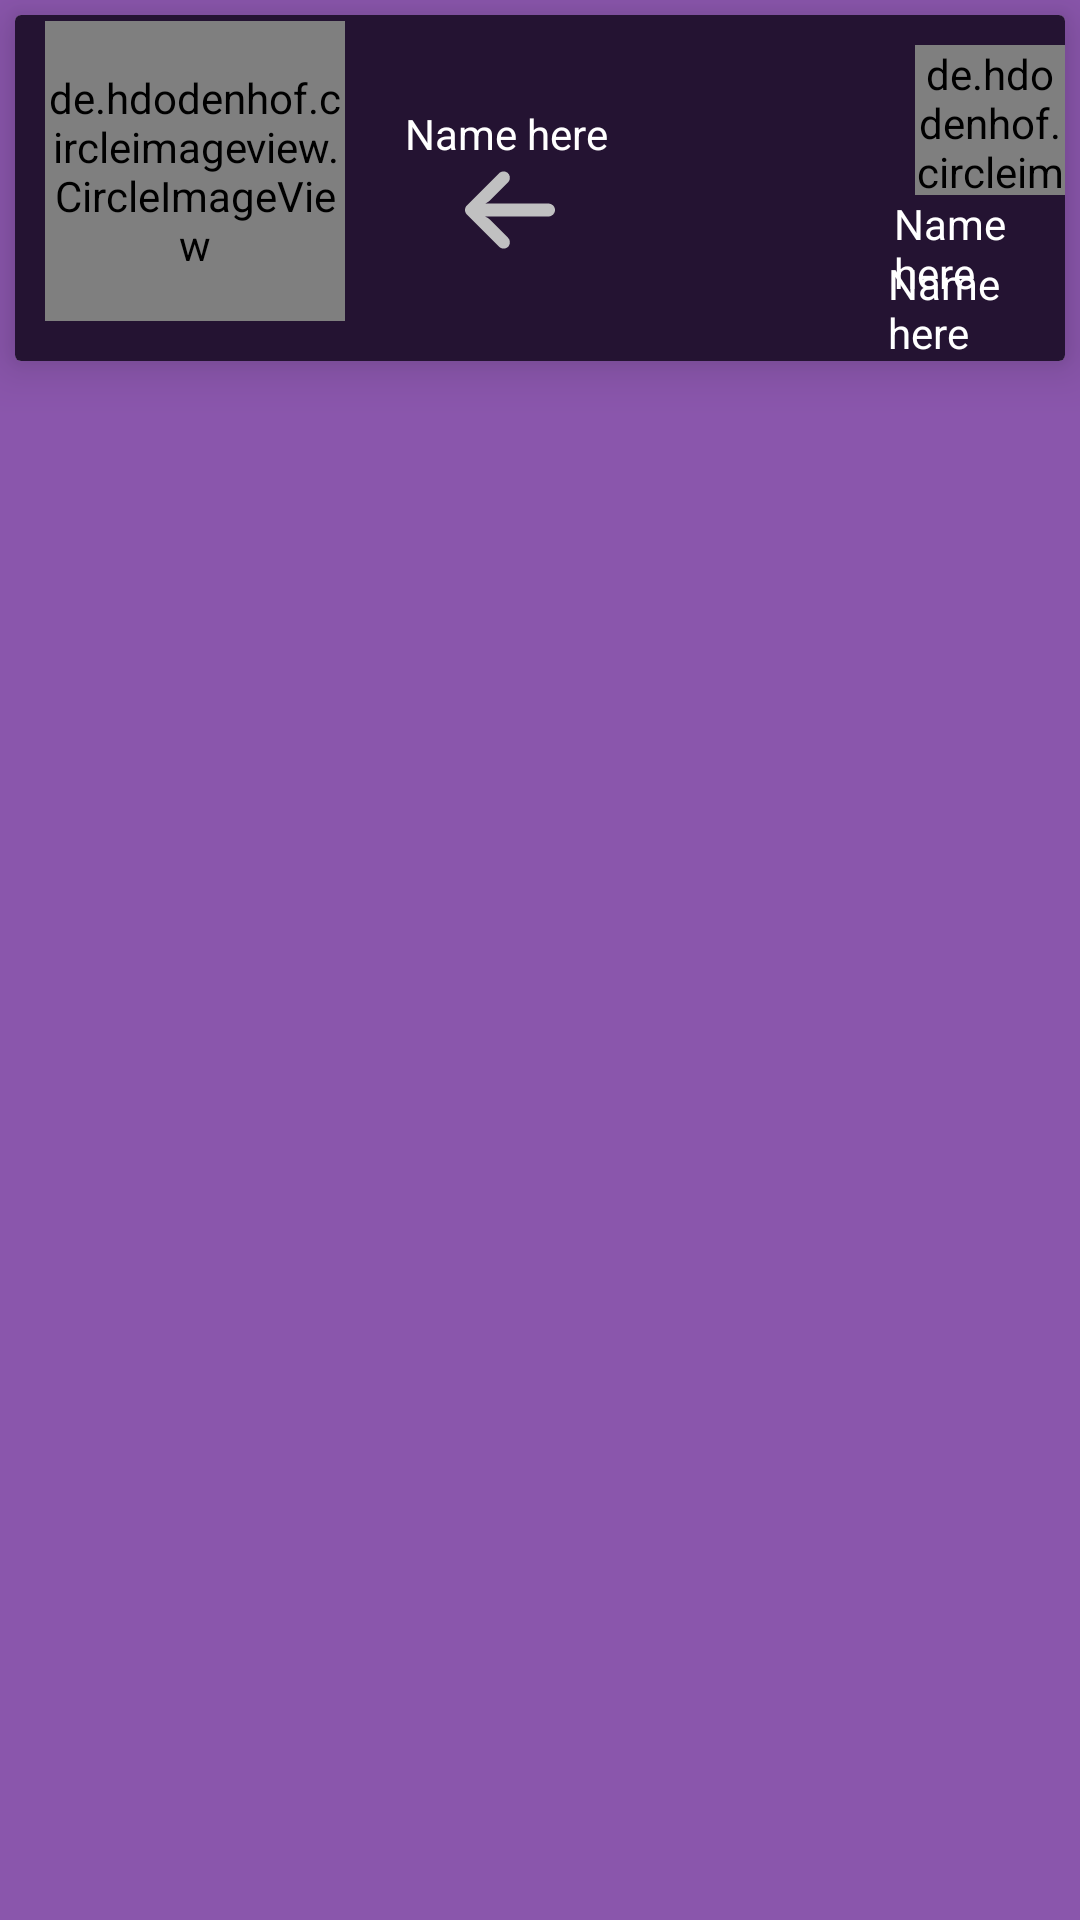

Where icons sit on this 1080 x 1920 app screen, as (x1, y1, x2, y2):
arrow: (465, 171, 555, 249)
